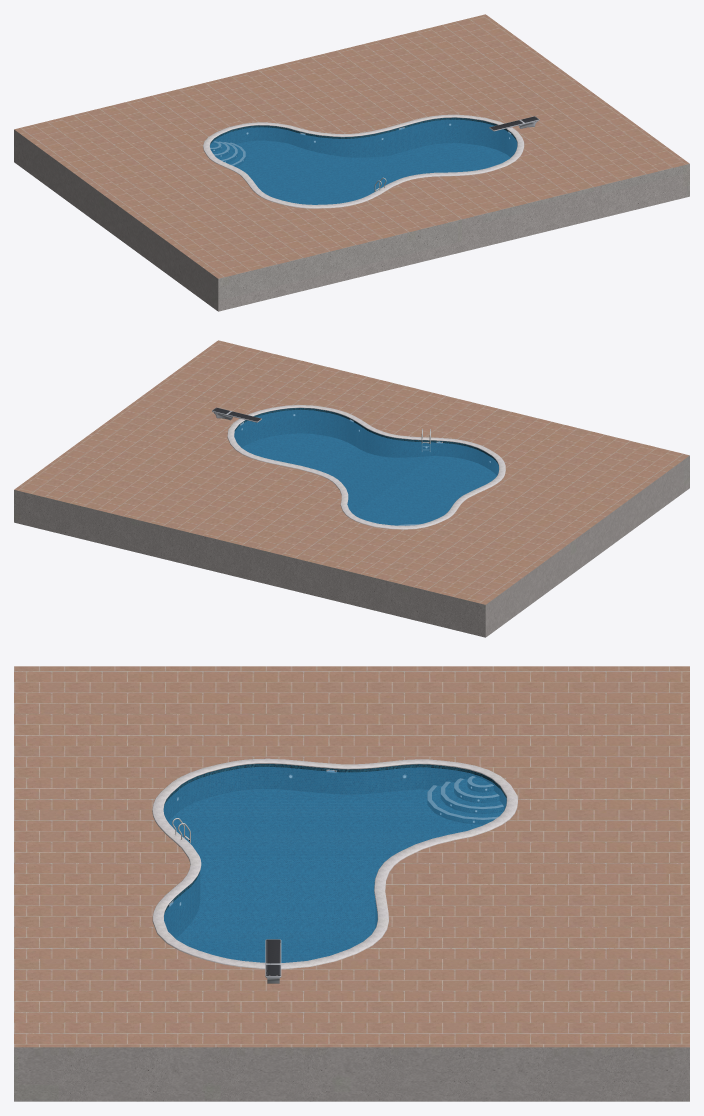
The model's file is Pool.glb.
3 views of the same model, one above another, from view 1: azimuth 30°, elevation 25°; view 2: azimuth 150°, elevation 25°; view 3: azimuth 270°, elevation 25° (orthographic). The views are drawn at different scales.
Parts seen in each view (by area): view 1: Swimming_Pool, Pool_Water; view 2: Swimming_Pool, Pool_Water; view 3: Swimming_Pool, Pool_Water, Diving_board.
Part boxes in pixels (bbox=[...]): Swimming_Pool: bbox=[14, 14, 689, 311]; Pool_Water: bbox=[210, 119, 517, 204]; Swimming_Pool: bbox=[14, 340, 689, 637]; Pool_Water: bbox=[234, 409, 498, 525]; Swimming_Pool: bbox=[14, 666, 689, 1101]; Pool_Water: bbox=[163, 767, 506, 962]; Diving_board: bbox=[265, 939, 281, 983].
Size of the model in its own units: 1181 by 105 by 886.
7 materials, 7 textured.
